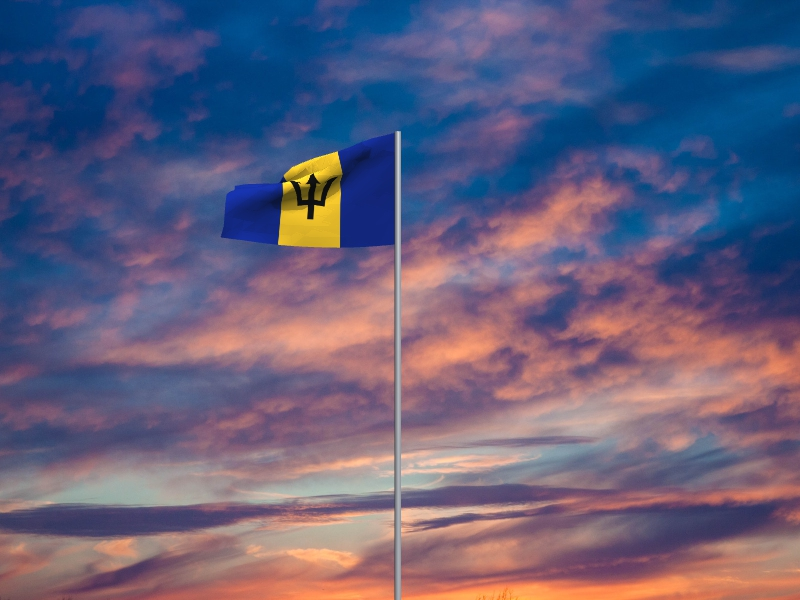bb: (219, 133, 395, 249)
